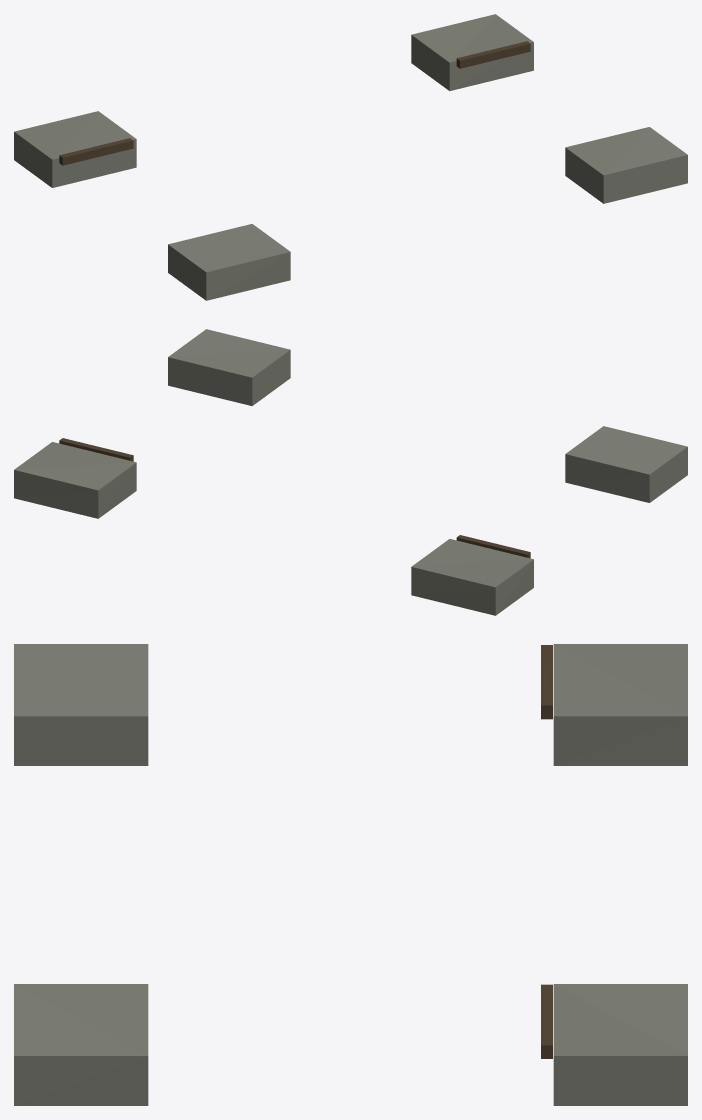
File: RES-03-5.glb
The picture shows the model from 3 angles, top to bottom: view 1: azimuth 30°, elevation 25°; view 2: azimuth 150°, elevation 25°; view 3: azimuth 270°, elevation 25°; orthographic projection. The views are drawn at different scales.
Visible parts, largest first — view 1: city-details/RES-03-5; view 2: city-details/RES-03-5; view 3: city-details/RES-03-5.
Part boxes in pixels (left/top/right/bottom): city-details/RES-03-5: left=14, top=14, right=687, bottom=300; city-details/RES-03-5: left=14, top=329, right=687, bottom=615; city-details/RES-03-5: left=14, top=644, right=687, bottom=1105.
Size of the model in its own units: 8.85 by 0.57 by 6.12.
